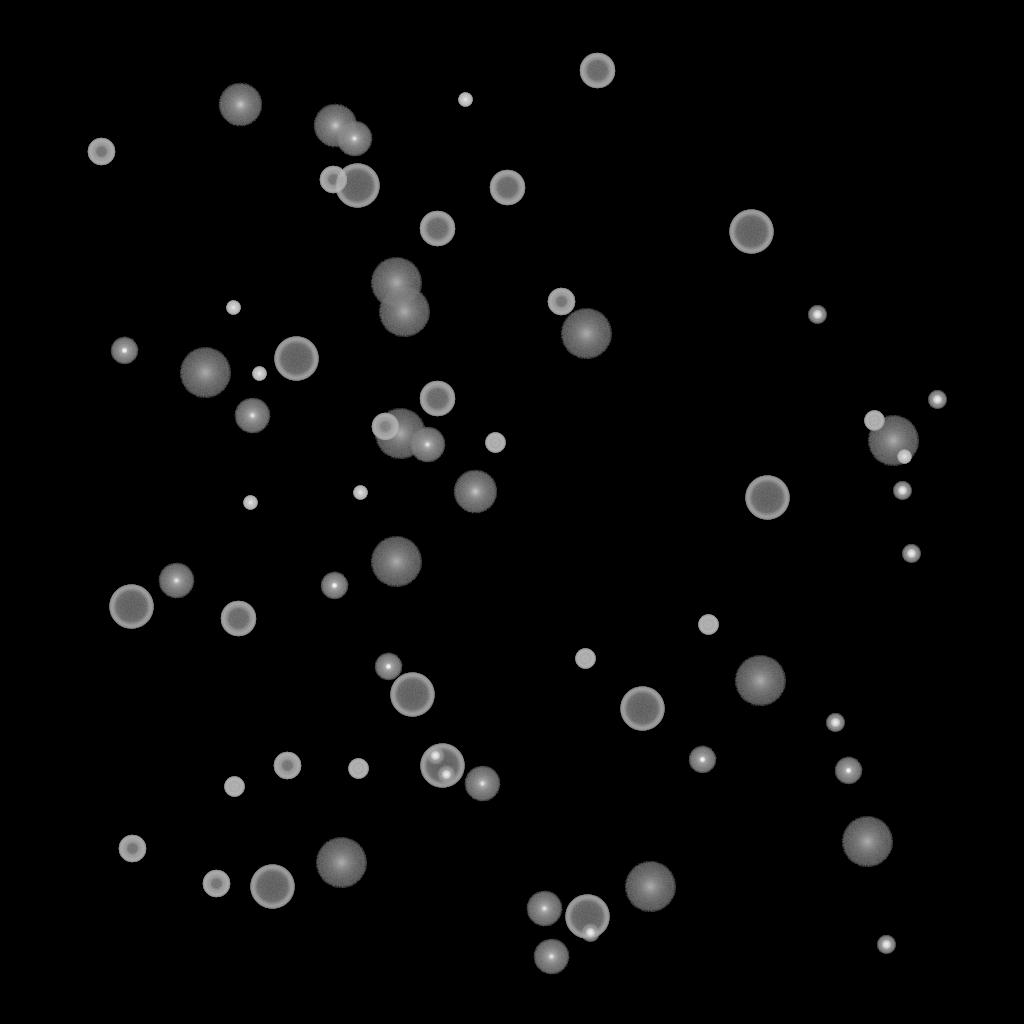depth:-10: (834, 757, 862, 785), (320, 572, 348, 600), (688, 746, 716, 774), (110, 337, 138, 365), (374, 653, 402, 681)
depth:-20: (437, 766, 455, 784), (893, 482, 911, 500), (826, 714, 844, 732), (902, 545, 920, 563), (808, 306, 826, 324), (928, 391, 946, 409), (426, 747, 444, 765), (581, 924, 599, 942), (877, 936, 895, 954)
depth:-30: (897, 450, 911, 464), (243, 496, 257, 510), (226, 301, 240, 315), (252, 367, 266, 381), (353, 486, 367, 500), (458, 93, 472, 107)
depth:-40: (224, 777, 244, 797), (575, 649, 595, 669), (698, 615, 718, 635), (348, 759, 368, 779), (485, 433, 505, 453), (864, 411, 884, 431)
depth:-50: (87, 138, 115, 166), (202, 870, 230, 898), (371, 413, 399, 441), (118, 835, 146, 863), (273, 752, 301, 780), (319, 166, 347, 194), (547, 288, 575, 316)
depth:-60: (419, 381, 455, 417), (489, 170, 525, 206), (220, 601, 256, 637), (419, 211, 455, 247), (579, 53, 615, 89)
depth:-70: (335, 164, 379, 208), (250, 865, 294, 909), (109, 585, 153, 629), (565, 895, 609, 939), (620, 687, 664, 731), (390, 673, 434, 717), (420, 744, 464, 788), (745, 476, 789, 520), (274, 337, 318, 381), (729, 210, 773, 254)
depth:0: (526, 891, 562, 927), (158, 563, 194, 599), (533, 939, 569, 975), (234, 398, 270, 434), (464, 766, 500, 802), (336, 121, 372, 157), (409, 427, 445, 463)
depth:10: (453, 470, 497, 514), (313, 104, 357, 148), (218, 83, 262, 127)
depth:20: (624, 862, 676, 912), (841, 817, 893, 867), (315, 838, 367, 888), (378, 287, 430, 337), (374, 409, 426, 459), (867, 416, 919, 466), (179, 348, 231, 398), (370, 258, 422, 308), (370, 537, 422, 587), (734, 656, 786, 706), (560, 309, 612, 359)
